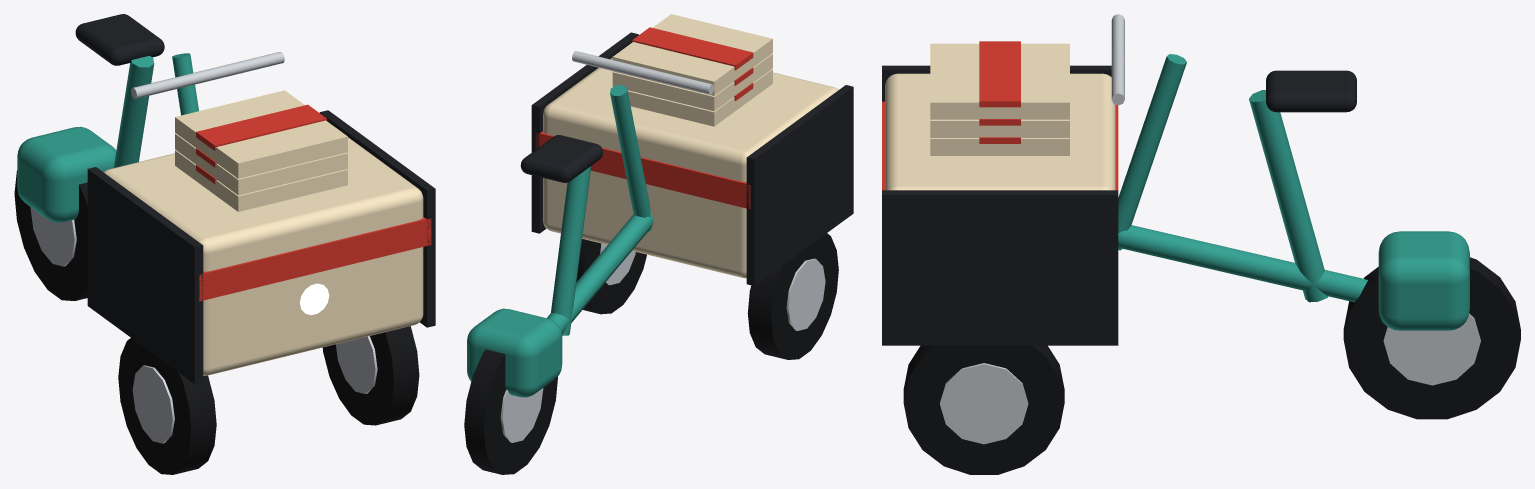
Rendered from cargo-trike.glb.
3 renders of one model, left to right at view 1: azimuth 30°, elevation 25°; view 2: azimuth 150°, elevation 25°; view 3: azimuth 270°, elevation 25°, orthographic. The views are drawn at different scales.
Parts seen in each view (by area): view 1: trike crate, trike dark, trike tyre, trike paint, trike red, trike chrome, trike lamp; view 2: trike crate, trike dark, trike paint, trike tyre, trike red, trike chrome; view 3: trike dark, trike crate, trike tyre, trike paint, trike chrome, trike red.
Part boxes in pixels (x1,y1,x2,y2): trike crate: [103, 90, 423, 375]; trike dark: [75, 14, 435, 384]; trike tyre: [14, 170, 419, 474]; trike paint: [17, 53, 198, 222]; trike red: [196, 104, 431, 301]; trike chrome: [30, 52, 377, 443]; trike lamp: [300, 283, 329, 315]; trike crate: [543, 14, 838, 278]; trike dark: [520, 32, 853, 285]; trike paint: [467, 85, 653, 397]; trike tyre: [464, 233, 838, 474]; trike red: [535, 27, 753, 209]; trike chrome: [500, 51, 825, 442]; trike dark: [882, 65, 1356, 345]; trike crate: [885, 43, 1115, 190]; trike tyre: [903, 257, 1520, 474]; trike paint: [1118, 54, 1469, 330]; trike chrome: [940, 14, 1480, 444]; trike red: [882, 41, 1118, 190].
Size of the model in its own units: 1.14 by 1.48 by 2.38.
